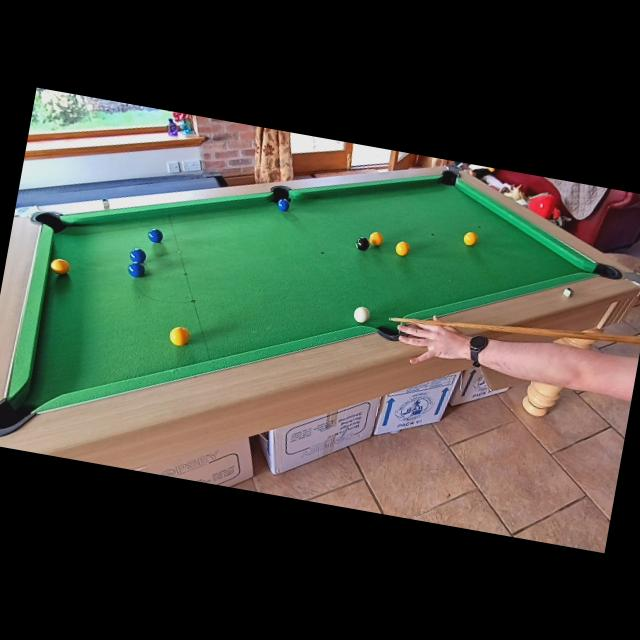Ball: (167, 324, 191, 348), (49, 256, 72, 276), (352, 305, 372, 325), (126, 260, 146, 279), (128, 247, 146, 264), (462, 230, 478, 248), (146, 227, 164, 243), (393, 240, 410, 256), (367, 230, 383, 247), (354, 235, 370, 251), (275, 197, 290, 212)
